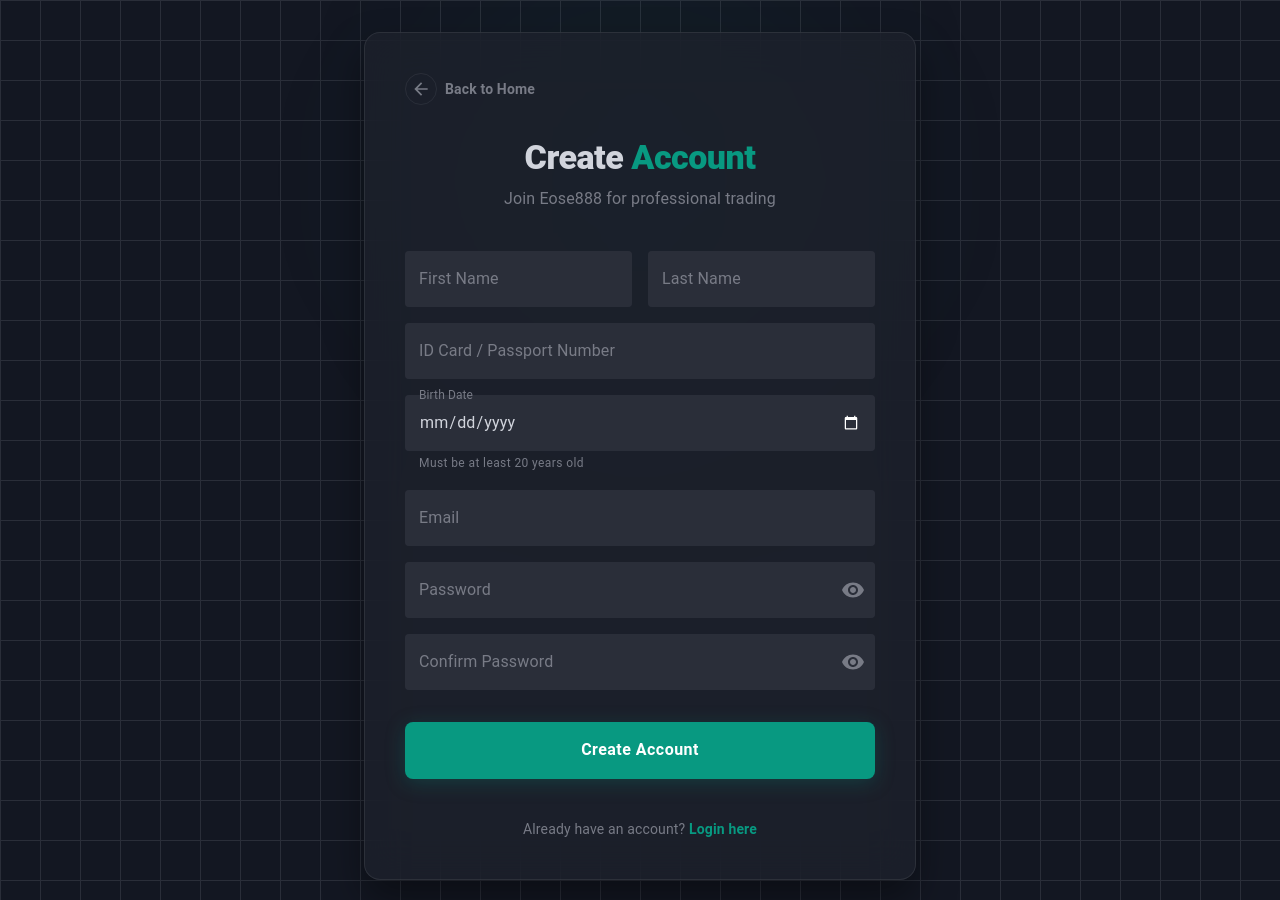
Register › shows error when submitting empty form
Click the button "Create Account".
click(640, 750)  # box [405,722,875,779]
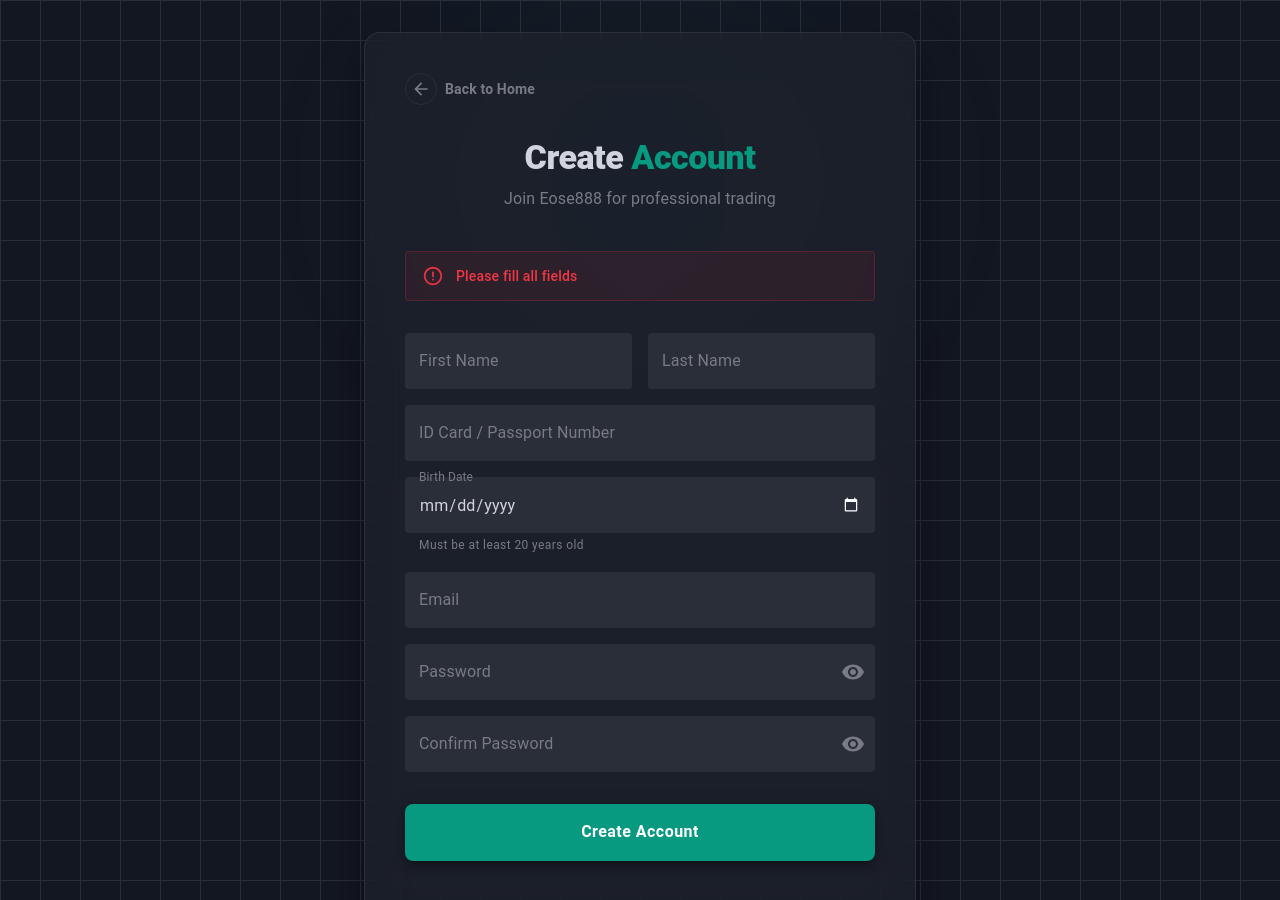
Expected: the text "Please fill all fields" is shown, [456,268,577,284]
